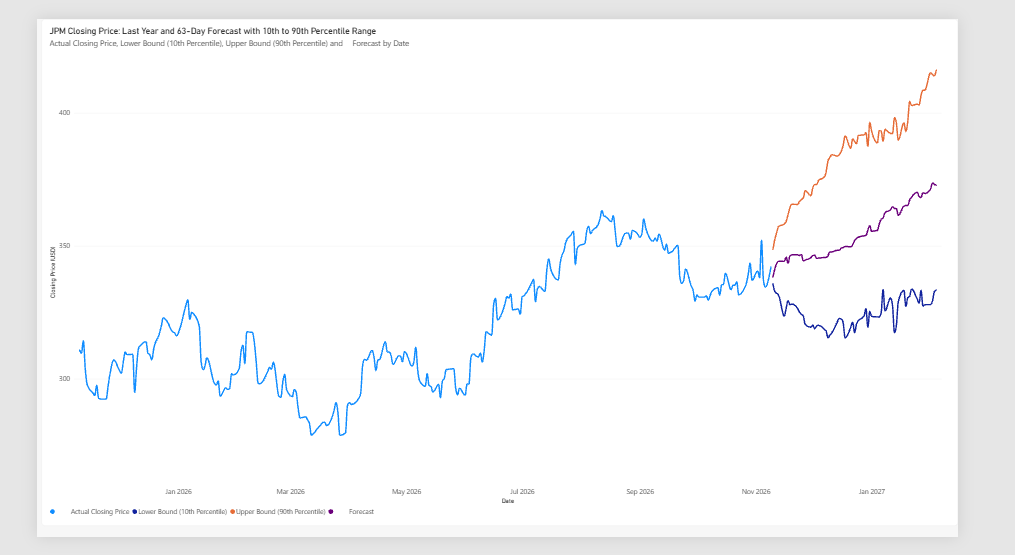

The page's visual inventory and layout, read from the dashboard file:
{"tool":"powerbi","page":{"name":"Page 1","canvas":[1920,1080],"ordinal":0},"visuals":[{"type":"lineChart","title":"JPM Closing Price: Last Year and 63-Day Forecast with 10th to 90th Percentile Range","fields":{"Category":["JPM_Combined.Date"],"Y":["Sum(JPM_Combined.Close)","Sum(JPM_Combined.lower)","Sum(JPM_Combined.upper)","Sum(JPM_Combined.forecast)"]},"box":[8.9,0,1602.3,997.7],"z":0}]}

Visuals, with their boxes in screenshot pixels (x1, y1, x2, y2), scaled from the page's 1920x1080 canvas onto the 1015x555 screenshot:
"JPM Closing Price: Last Year and 63-Day Forecast with 10th to 90th Percentile Range" lineChart: bbox=[5, 0, 852, 513]
